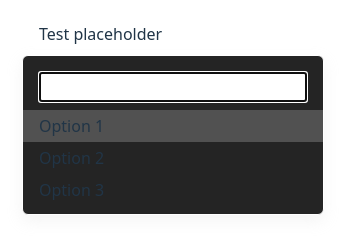
it: Select › Multiple select › With expanded dropdown › clicking on an option adds it to the selection
This screenshot has width=347, height=238.
Click the option "Option 1" at (72, 126), box [23, 110, 323, 142]
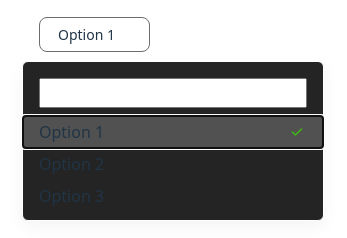
Click the option "Option 2" at (72, 164), box [39, 152, 104, 174]
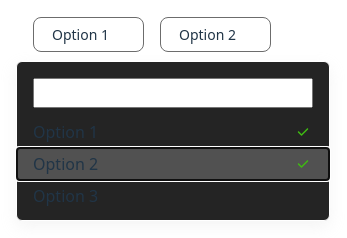
Check: the number of elements with test id "chip" is 2, box [33, 16, 144, 52]; [160, 16, 271, 52]
